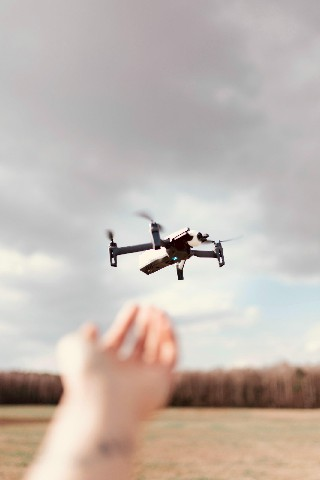maybay_khongnguoilai: (96, 211, 232, 282)
